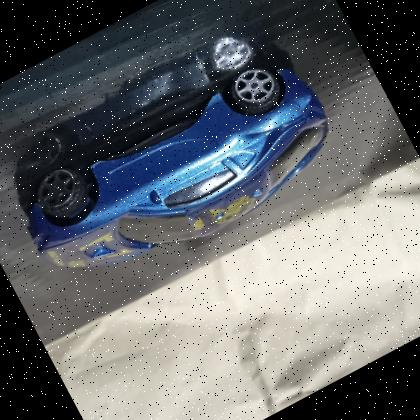Car: (25, 64, 329, 268)
